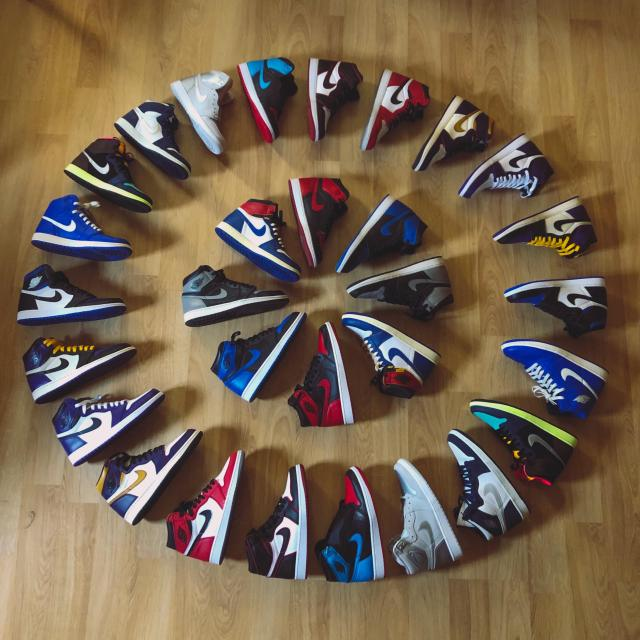shoes: (95, 426, 204, 527), (467, 398, 580, 488), (445, 428, 531, 544), (385, 456, 466, 576), (339, 310, 443, 403), (498, 337, 611, 422), (164, 449, 246, 566), (50, 388, 166, 469), (210, 311, 308, 405), (314, 465, 386, 584), (22, 336, 136, 406), (343, 255, 458, 323), (333, 193, 428, 275), (244, 463, 310, 581), (213, 196, 303, 282), (288, 321, 358, 428), (181, 264, 291, 329), (492, 194, 600, 260), (15, 263, 126, 327), (63, 137, 154, 215), (30, 194, 133, 262), (501, 274, 609, 338), (412, 94, 494, 174), (458, 132, 555, 198), (358, 66, 431, 152), (116, 100, 192, 181), (285, 176, 350, 270), (236, 56, 299, 144), (172, 66, 231, 158), (305, 57, 363, 144)
